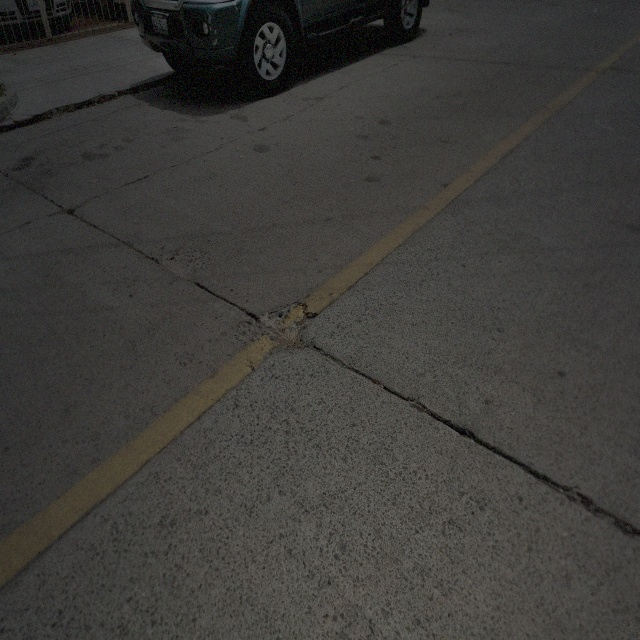pothole: (236, 302, 317, 356), (158, 244, 210, 284)
